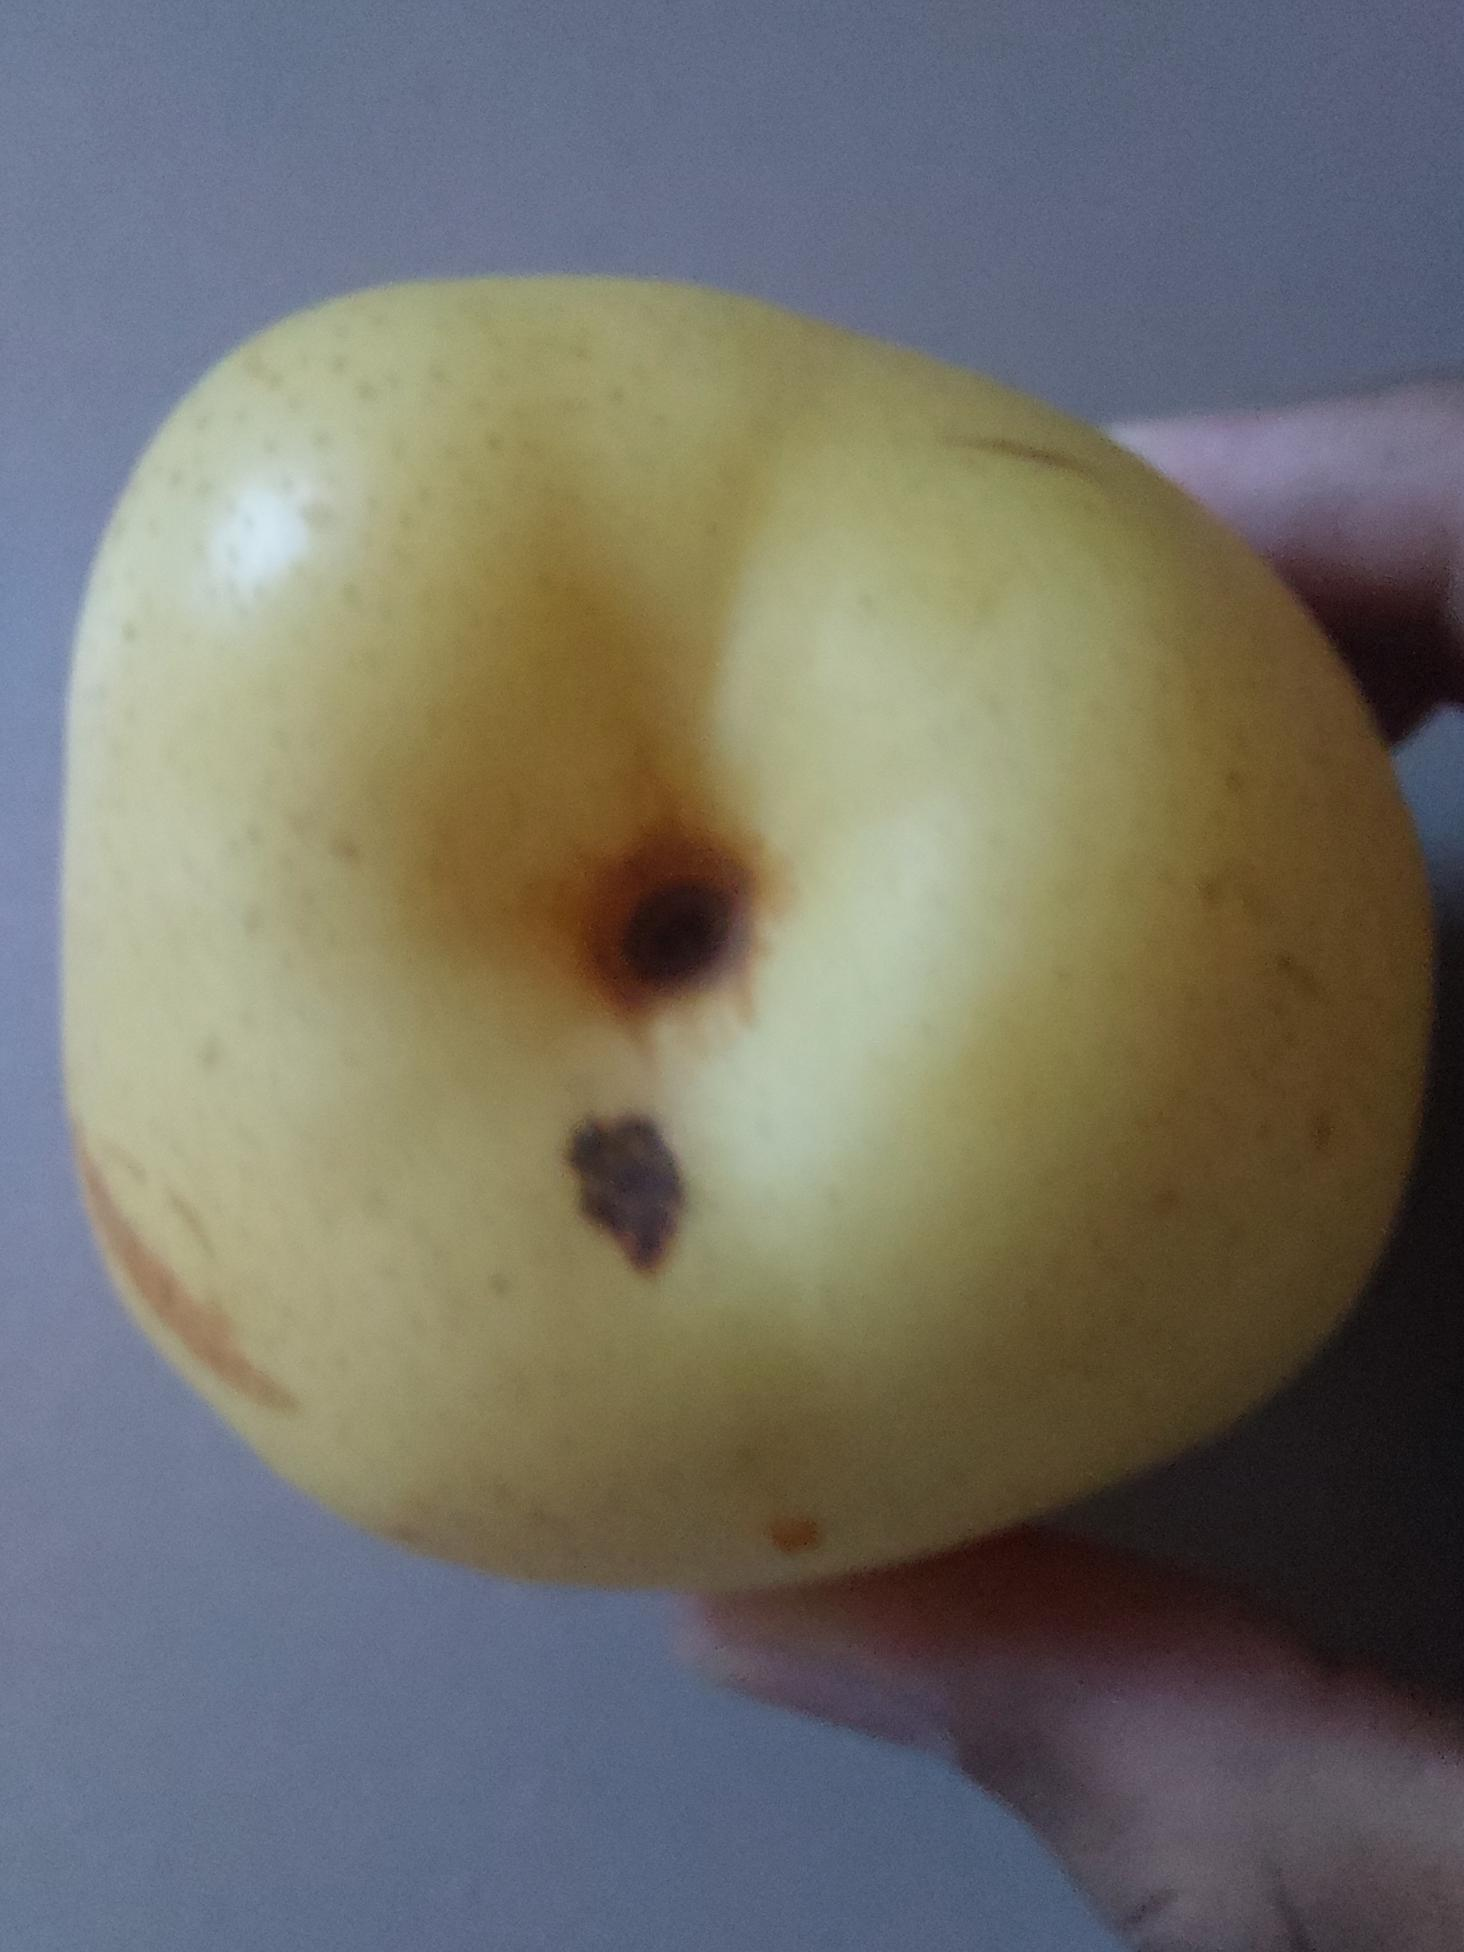Good Pear: (54, 284, 1436, 1594)
